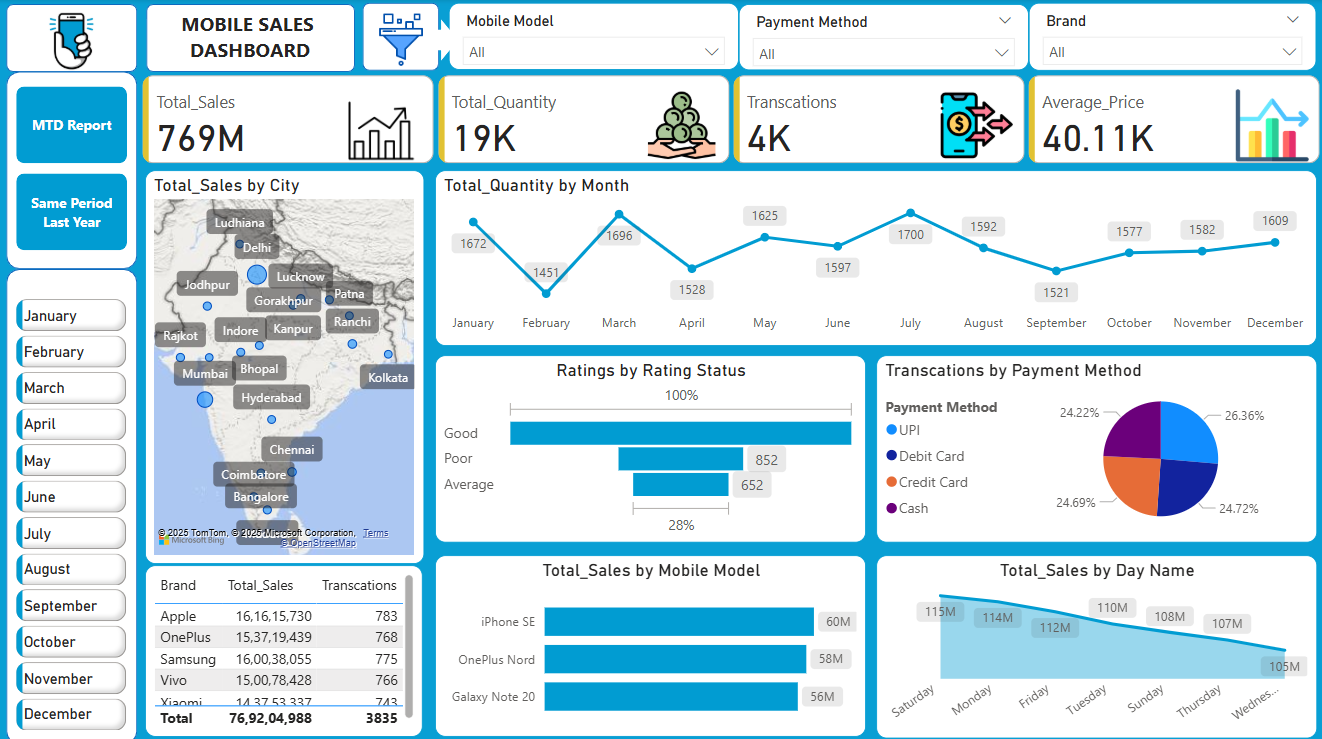

Layout of this report page (visuals, bound fields, positions):
{"tool":"powerbi","page":{"name":"Dashboard","canvas":[1280,720],"ordinal":0},"visuals":[{"type":"shape","box":[6,4.8,126.4,65.6],"z":0},{"type":"image","box":[27.4,0,82.2,81.1],"z":1000},{"type":"shape","box":[6,70.3,126.4,190.7],"z":2000},{"type":"shape","box":[6,261.1,126.4,458.9],"z":3000},{"type":"advancedSlicerVisual","fields":{"Values":["Custom_Calendar.Date.Variation.Date Hierarchy.Month"]},"box":[10.7,284.9,116.8,435.1],"z":4000},{"type":"cardVisual","fields":{"Data":["Mobile_Sales_Data.Total_Sales","Mobile_Sales_Data.Total_Quantity","Mobile_Sales_Data.Transcations","Mobile_Sales_Data.Average_Price"]},"box":[132.3,69.1,1147.9,95.4],"z":5000},{"type":"slicer","fields":{"Values":["Mobile_Sales_Data.Mobile Model"]},"box":[433,4,280,65],"z":6000},{"type":"slicer","fields":{"Values":["Mobile_Sales_Data.Payment Method"]},"box":[713,5,280,64],"z":7000},{"type":"slicer","fields":{"Values":["Mobile_Sales_Data.Brand"]},"box":[993,3.6,277.7,65.6],"z":8000},{"type":"shape","box":[350.5,3.6,73.9,65.6],"z":9000},{"type":"image","box":[355.2,8.3,64.4,62],"z":10000},{"type":"shape","box":[408.9,19.1,33.4,40.5],"z":11000},{"type":"shape","box":[140.7,4.8,201.5,65.6],"z":12000},{"type":"textbox","box":[155,6,174,60.8],"z":13000},{"type":"map","fields":{"Category":["Mobile_Sales_Data.City"],"Size":["Mobile_Sales_Data.Total_Sales"]},"box":[139.5,165.7,269.4,380.3],"z":14000},{"type":"lineChart","fields":{"Y":["Mobile_Sales_Data.Total_Quantity"],"Category":["Custom_Calendar.Date.Variation.Date Hierarchy.Month"]},"box":[419.6,165.7,851.1,169.3],"z":15000},{"type":"funnel","title":"Ratings by Rating Status","fields":{"Y":["CountNonNull(Mobile_Sales_Data.Customer Ratings)"],"Category":["Mobile_Sales_Data.Rating Status"]},"box":[419.6,343.3,416,181.2],"z":16000},{"type":"pieChart","fields":{"Y":["Mobile_Sales_Data.Transcations"],"Category":["Mobile_Sales_Data.Payment Method"]},"box":[845.1,343.3,425.6,181.2],"z":17000},{"type":"clusteredBarChart","fields":{"Y":["Mobile_Sales_Data.Total_Sales"],"Category":["Mobile_Sales_Data.Mobile Model"]},"box":[419.6,536.4,416,175.2],"z":18000},{"type":"areaChart","fields":{"Y":["Mobile_Sales_Data.Total_Sales"],"Category":["Custom_Calendar.Day Name"]},"box":[845.1,536.4,425.6,176.4],"z":19000},{"type":"tableEx","fields":{"Values":["Mobile_Sales_Data.Brand","Mobile_Sales_Data.Total_Sales","Mobile_Sales_Data.Transcations"]},"box":[139.5,545.9,268.2,165.7],"z":20000},{"type":"pageNavigator","box":[15.7,84.5,107.4,159.3],"z":20001}]}

Visuals, with their boxes in screenshot pixels (x1, y1, x2, y2), scaled from the page's 1280x720 canvas onto the 1322x739 screenshot:
shape: (left=6, top=5, right=137, bottom=72)
image: (left=28, top=0, right=113, bottom=83)
shape: (left=6, top=72, right=137, bottom=268)
shape: (left=6, top=268, right=137, bottom=738)
advancedSlicerVisual - Custom_Calendar.Date.Variation.Date Hierarchy.Month: (left=11, top=292, right=132, bottom=738)
cardVisual - Mobile_Sales_Data.Total_Sales x Mobile_Sales_Data.Total_Quantity: (left=137, top=71, right=1321, bottom=169)
slicer - Mobile_Sales_Data.Mobile Model: (left=447, top=4, right=736, bottom=71)
slicer - Mobile_Sales_Data.Payment Method: (left=736, top=5, right=1026, bottom=71)
slicer - Mobile_Sales_Data.Brand: (left=1026, top=4, right=1312, bottom=71)
shape: (left=362, top=4, right=438, bottom=71)
image: (left=367, top=9, right=433, bottom=72)
shape: (left=422, top=20, right=457, bottom=61)
shape: (left=145, top=5, right=353, bottom=72)
textbox: (left=160, top=6, right=340, bottom=69)
map - Mobile_Sales_Data.City x Mobile_Sales_Data.Total_Sales: (left=144, top=170, right=422, bottom=560)
lineChart - Mobile_Sales_Data.Total_Quantity x Custom_Calendar.Date.Variation.Date Hierarchy.Month: (left=433, top=170, right=1312, bottom=344)
"Ratings by Rating Status" funnel: (left=433, top=352, right=863, bottom=538)
pieChart - Mobile_Sales_Data.Transcations x Mobile_Sales_Data.Payment Method: (left=873, top=352, right=1312, bottom=538)
clusteredBarChart - Mobile_Sales_Data.Total_Sales x Mobile_Sales_Data.Mobile Model: (left=433, top=551, right=863, bottom=730)
areaChart - Mobile_Sales_Data.Total_Sales x Custom_Calendar.Day Name: (left=873, top=551, right=1312, bottom=732)
tableEx - Mobile_Sales_Data.Brand x Mobile_Sales_Data.Total_Sales: (left=144, top=560, right=421, bottom=730)
pageNavigator: (left=16, top=87, right=127, bottom=250)
